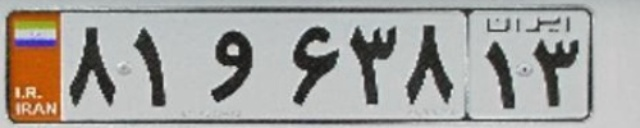1: (132, 24, 172, 106), (479, 40, 520, 109)
3: (349, 22, 398, 107), (529, 37, 581, 108)
6: (286, 24, 341, 108)
8: (65, 25, 122, 106), (410, 22, 456, 103)
vav: (200, 29, 262, 104)
